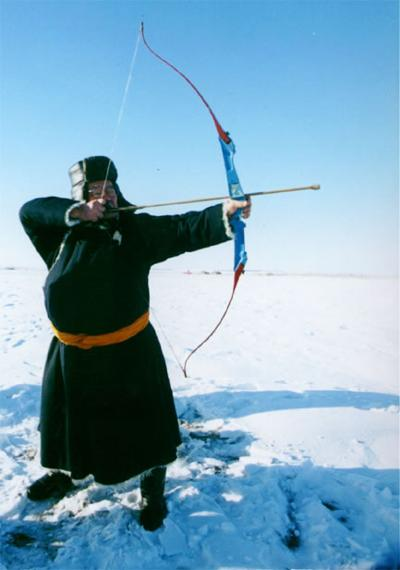person: (19, 156, 253, 535)
